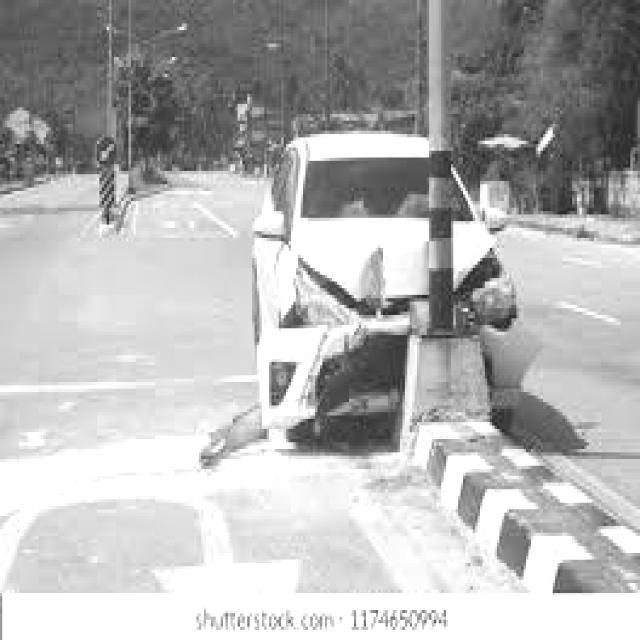Moderate: (246, 125, 537, 427)
